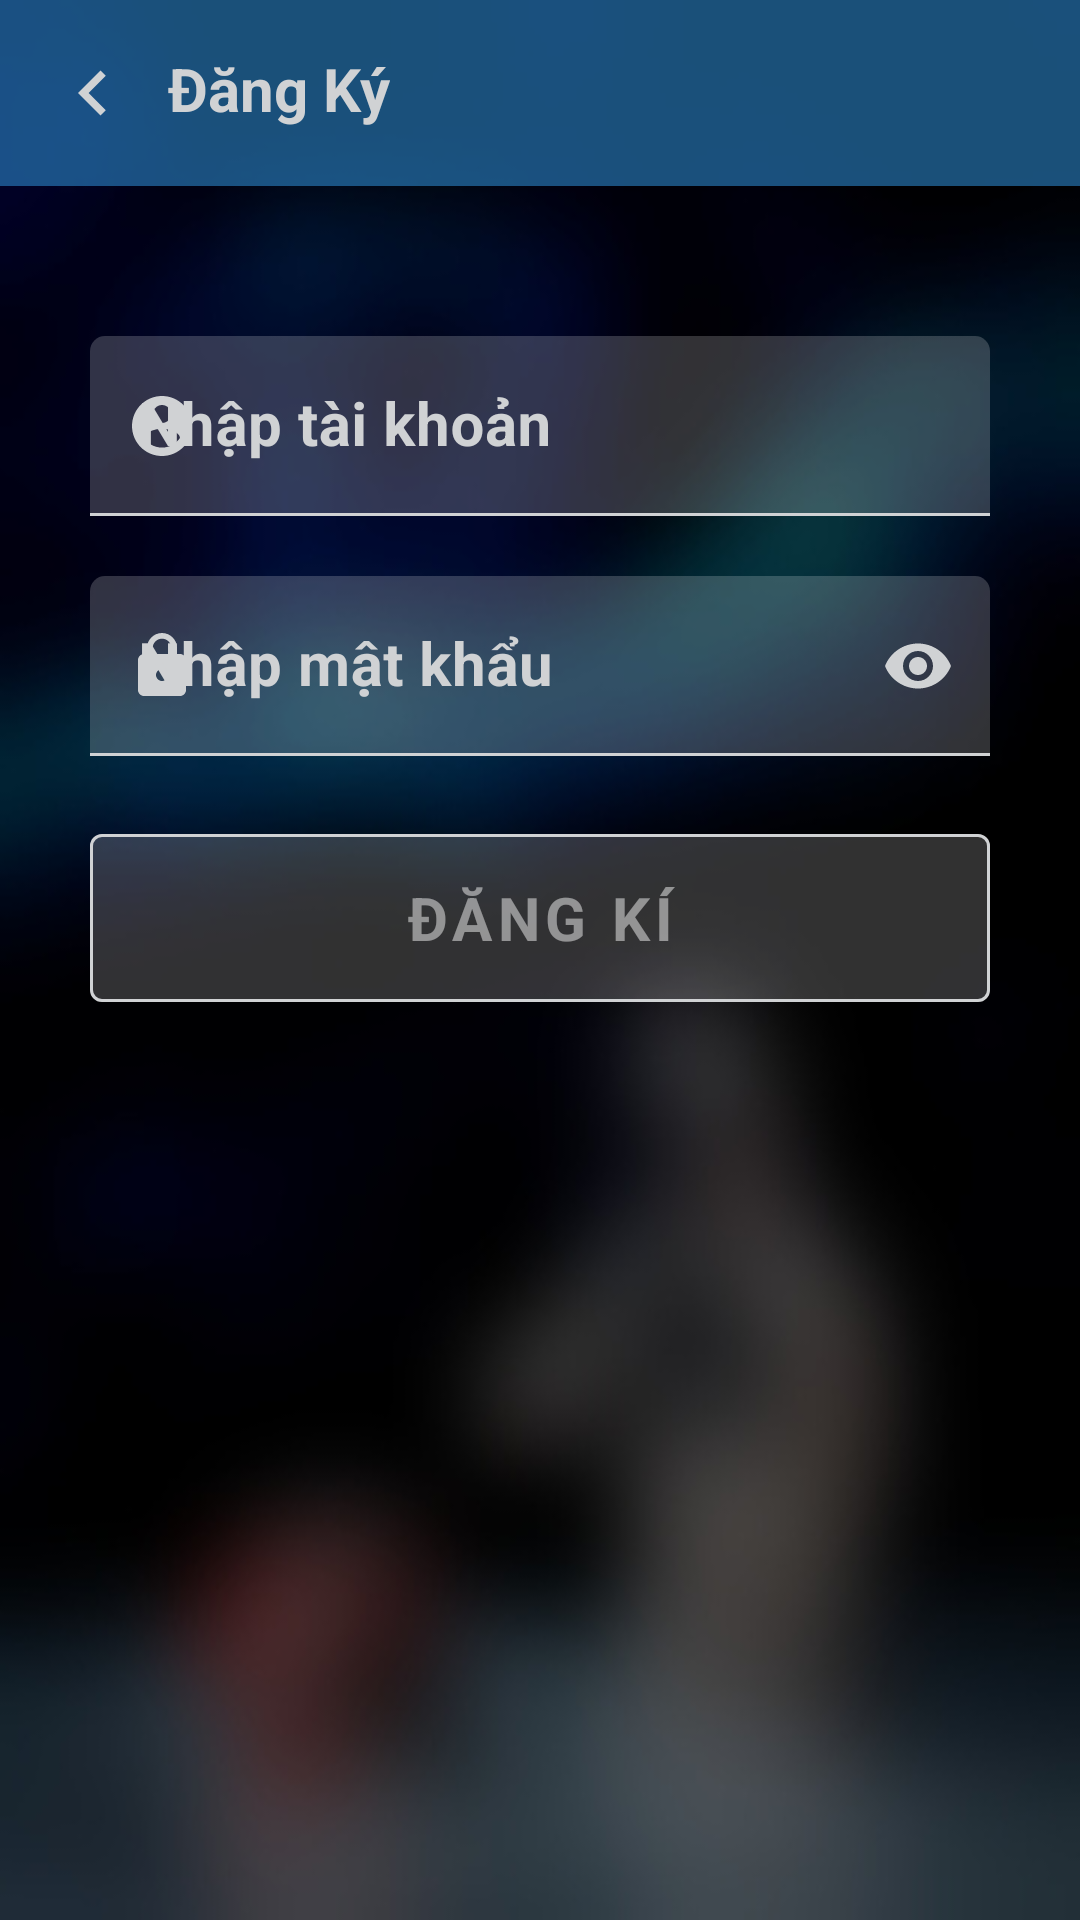

Locate icon controls on the screen. Image size 1080*1920, boxes as (x1, y1, x2, y2).
keyboard arrow left: (78, 70, 106, 116)
